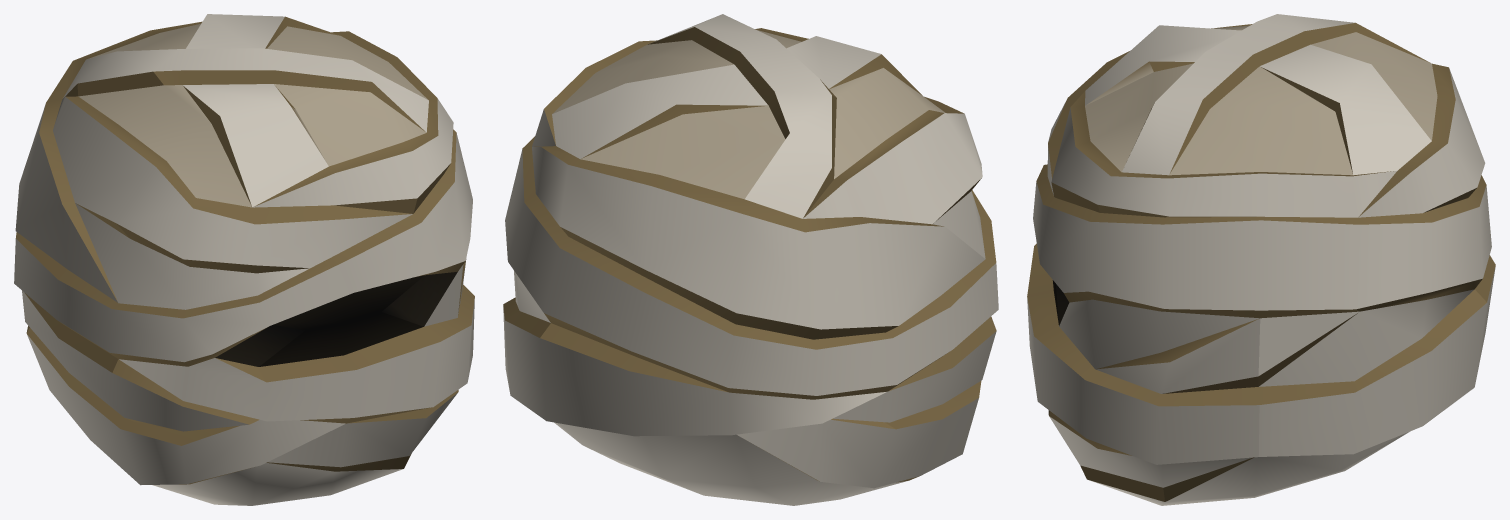
File: MummyHead.fbx
The picture shows the model from 3 angles, left to right: view 1: azimuth 30°, elevation 25°; view 2: azimuth 150°, elevation 25°; view 3: azimuth 270°, elevation 25°; orthographic projection. The views are drawn at different scales.
Parts seen in each view (by area): view 1: MummyHead; view 2: MummyHead; view 3: MummyHead.
Part boxes in pixels (<box>): MummyHead: <box>14,14,474,505</box>; MummyHead: <box>503,14,998,505</box>; MummyHead: <box>1027,14,1495,505</box>.
Size of the model in its own units: 0.4331 by 0.4498 by 0.4486.
